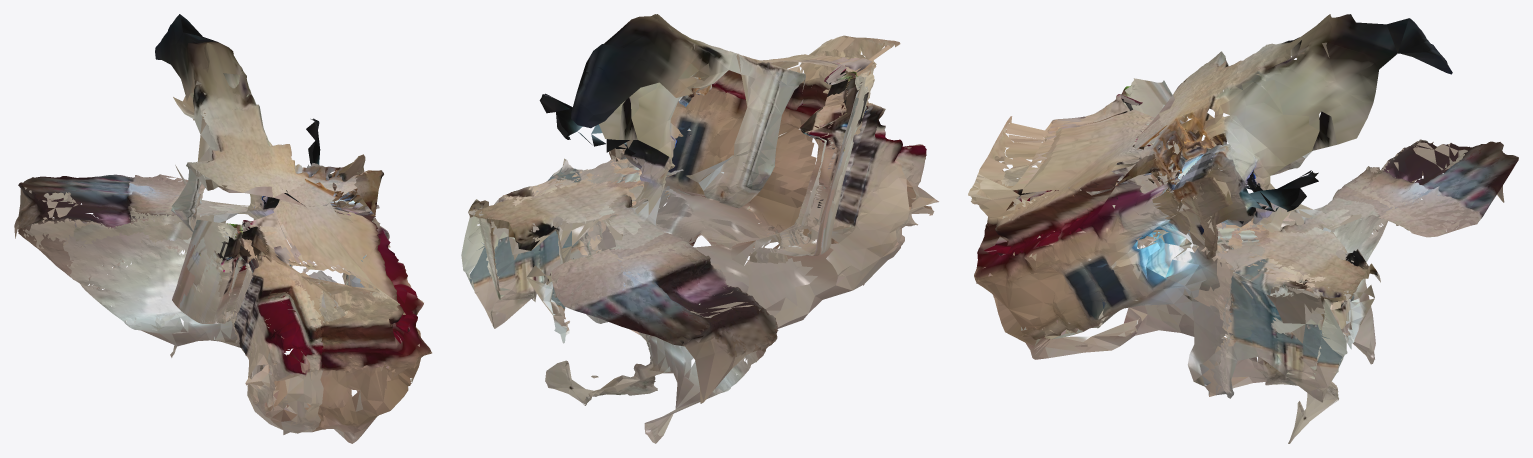
The picture shows the model from 3 angles, left to right: view 1: azimuth 30°, elevation 25°; view 2: azimuth 150°, elevation 25°; view 3: azimuth 270°, elevation 25°; orthographic projection. The views are drawn at different scales.
Bounding box in the file's own units: 12.98 × 14.37 × 19.22.
Materials: 1 (1 with a texture image).
